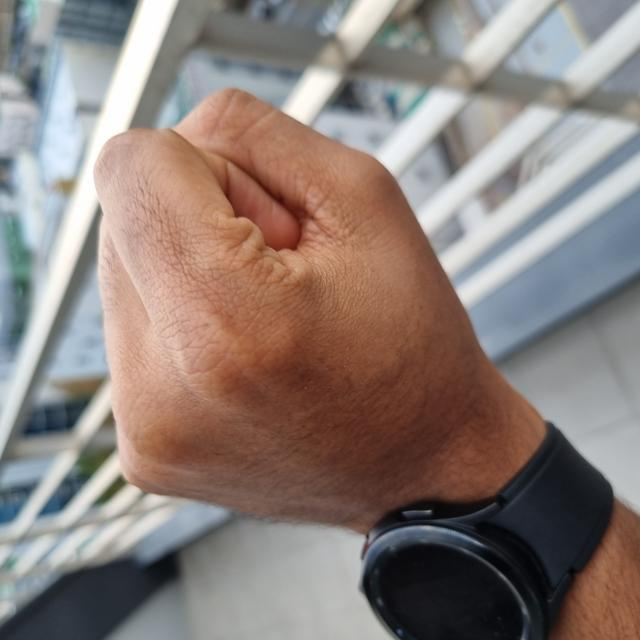Rock: (107, 93, 545, 498)
